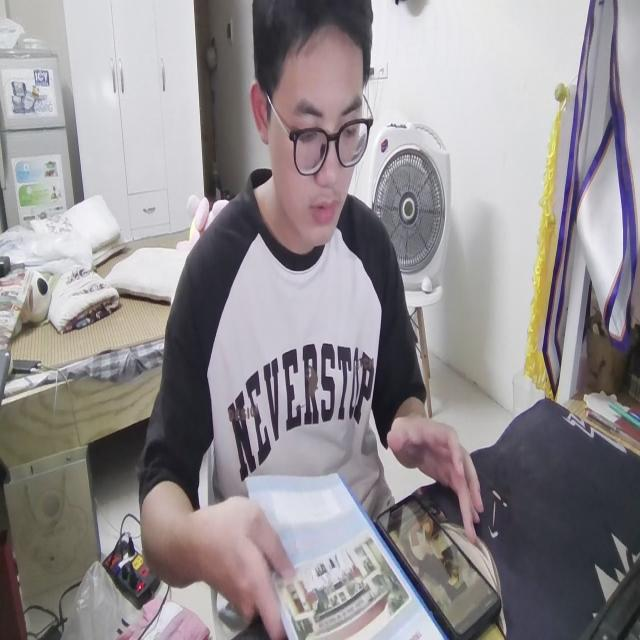book: (238, 456, 446, 640)
phone: (373, 485, 503, 640)
student: (138, 0, 483, 640)
